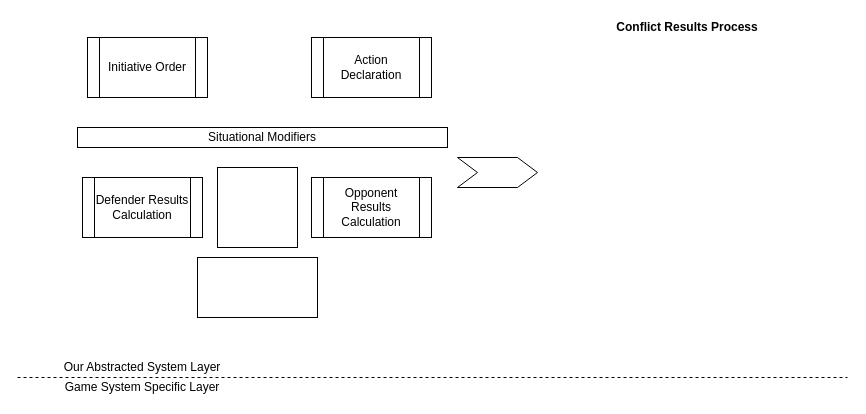
This 866x414 diagram has some shape labels left out. The box of each missing label's shape, as (x1, y1, x2, y2) in pixels:
Defender Vs. Opponent Results Matrix: (216, 166, 298, 248)
Flee: (456, 156, 538, 188)
Outcome Options: (196, 256, 318, 318)
